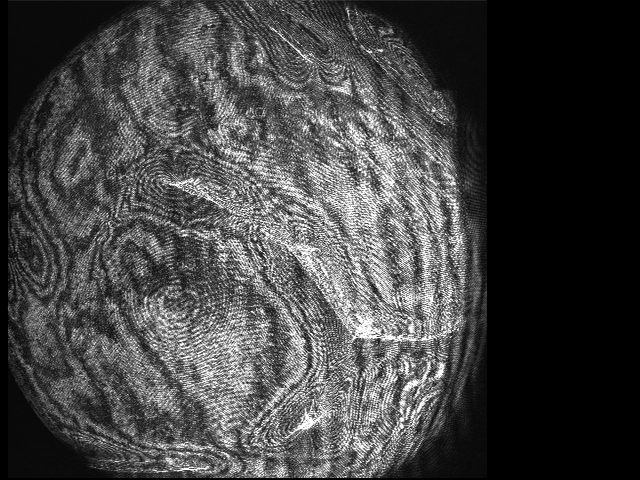plume: (128, 158, 268, 223)
